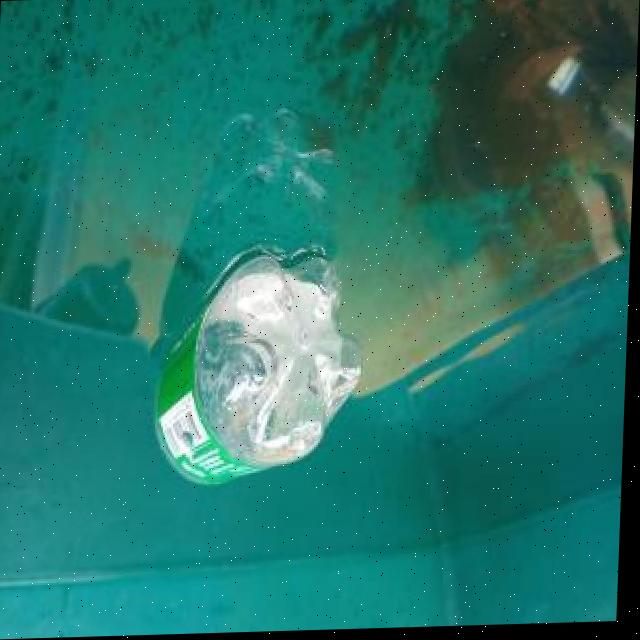bottle: (148, 240, 376, 501)
